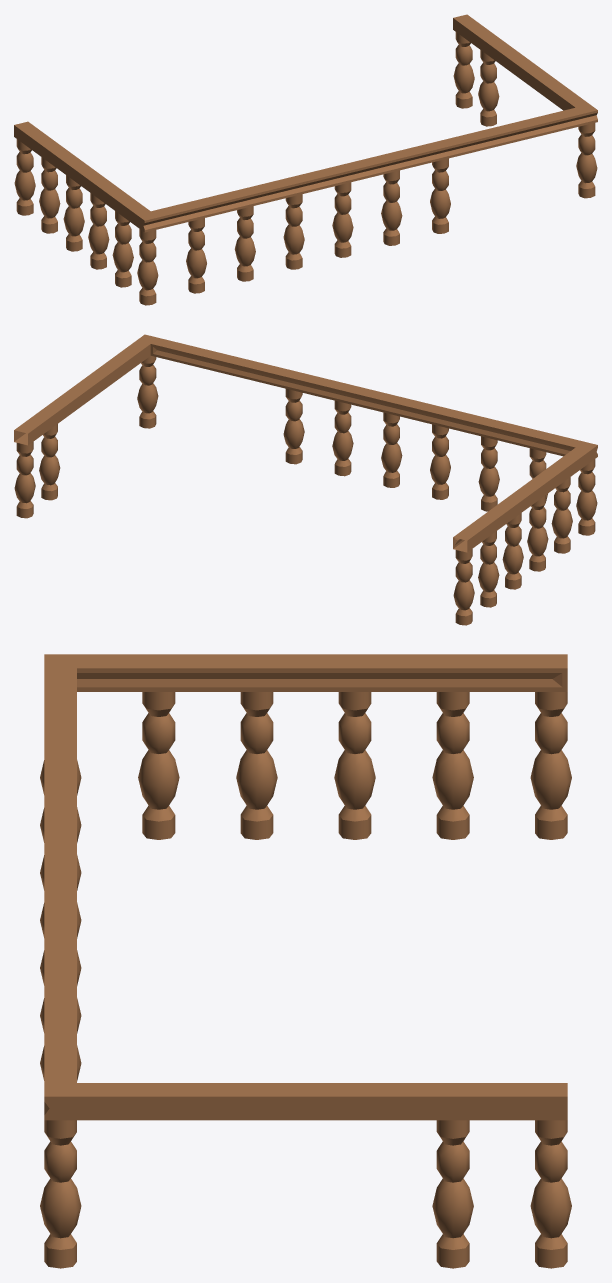
Rendered from Balcony.fbx.
3 renders of one model, top to bottom at view 1: azimuth 30°, elevation 25°; view 2: azimuth 150°, elevation 25°; view 3: azimuth 270°, elevation 25°, orthographic. The views are drawn at different scales.
Visible parts, largest first — view 1: Balcony; view 2: Balcony; view 3: Balcony.
Boxes of the visible parts, x1,y1,x2,y2 form: Balcony: (14,14,597,305); Balcony: (14,334,597,625); Balcony: (40,654,571,1268).
Bounding box in the file's own units: 403 × 203 × 72.5.
